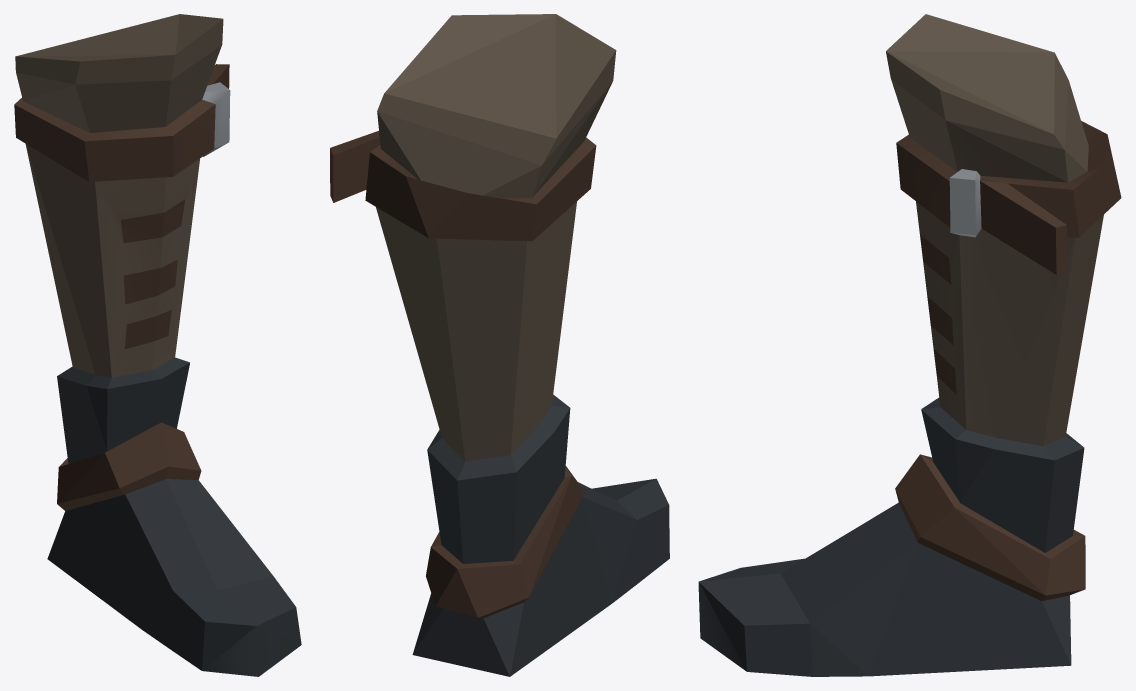
Rendered from Chr_LegLeft_Female_11_Static.fbx.
3 views of the same model, side by side, from view 1: azimuth 30°, elevation 25°; view 2: azimuth 150°, elevation 25°; view 3: azimuth 270°, elevation 25° (orthographic). The views are drawn at different scales.
Visible parts, largest first — view 1: Chr_LegLeft_Female_11_Static; view 2: Chr_LegLeft_Female_11_Static; view 3: Chr_LegLeft_Female_11_Static.
Part boxes in pixels (x1,y1,x2,y2): Chr_LegLeft_Female_11_Static: [14, 14, 301, 676]; Chr_LegLeft_Female_11_Static: [330, 14, 669, 676]; Chr_LegLeft_Female_11_Static: [698, 14, 1121, 676].
Bounding box in the file's own units: 0.1631 × 0.4043 × 0.263.
